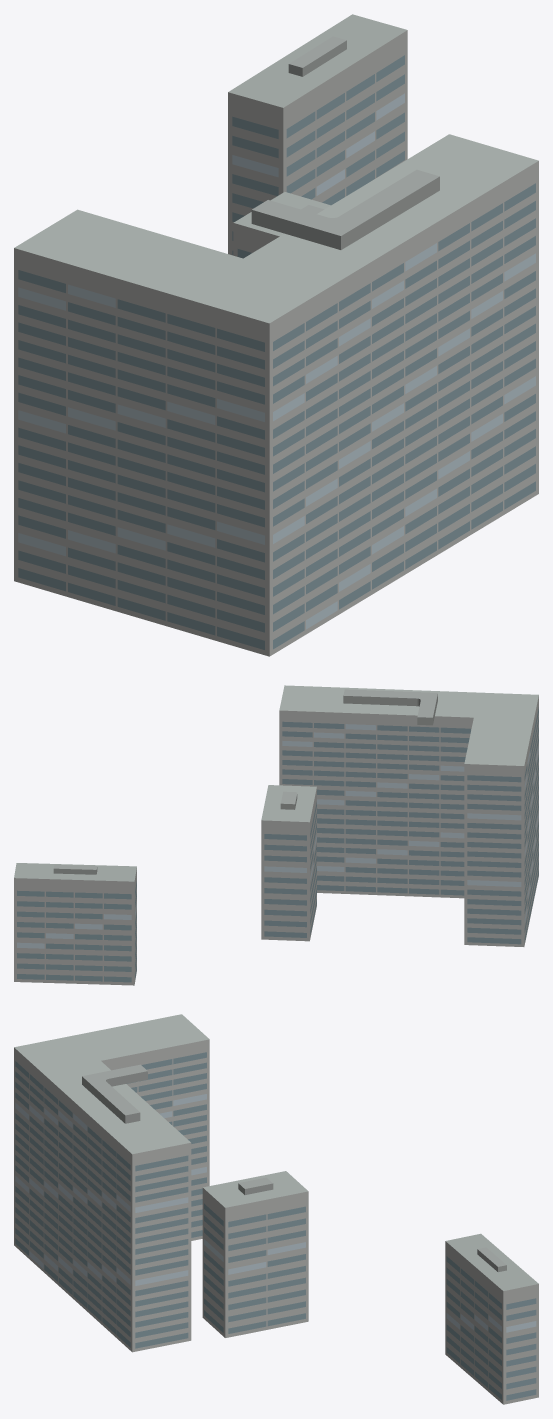
File: apt-a15283603.glb
3 renders of one model, top to bottom at view 1: azimuth 30°, elevation 25°; view 2: azimuth 150°, elevation 25°; view 3: azimuth 270°, elevation 25°, orthographic. The views are drawn at different scales.
Parts seen in each view (by area): view 1: apt-a15283603; view 2: apt-a15283603; view 3: apt-a15283603.
Part boxes in pixels (x1,y1,x2,y2): apt-a15283603: [14, 14, 538, 656]; apt-a15283603: [14, 685, 538, 985]; apt-a15283603: [14, 1014, 538, 1404].
Bounding box in the file's own units: 118 × 59 × 136.
